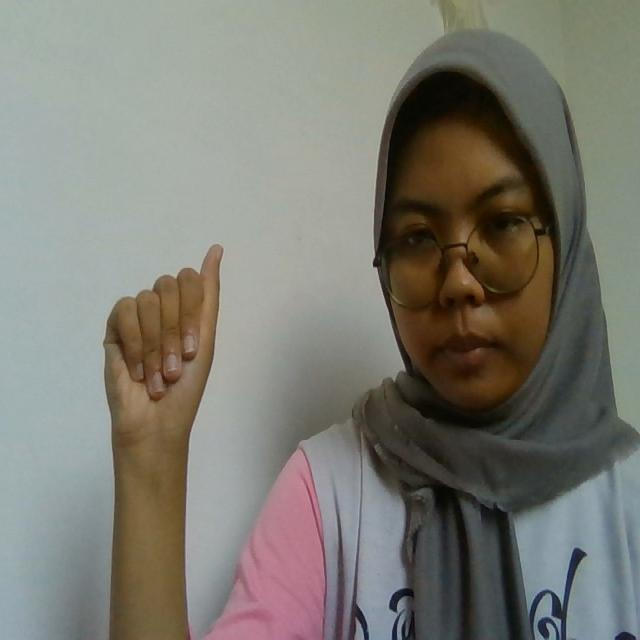A: (102, 241, 225, 428)
